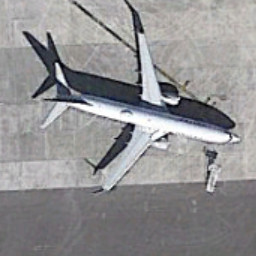Airplane: (33, 16, 252, 211)
